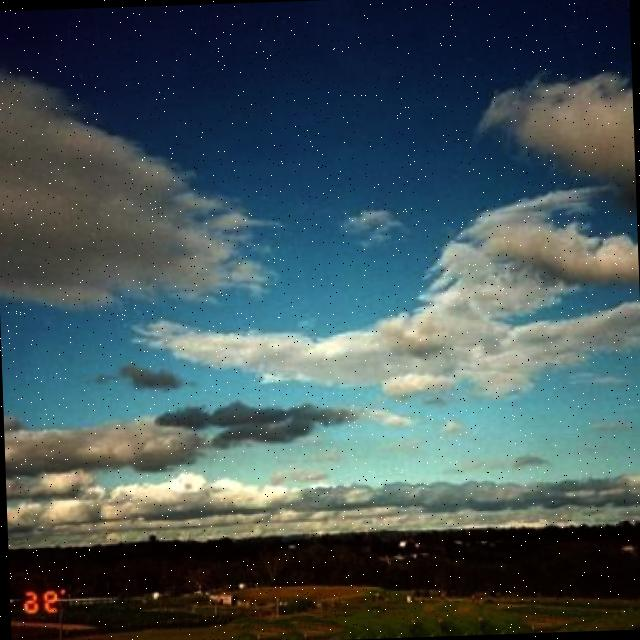Sc: (1, 62, 640, 468)
